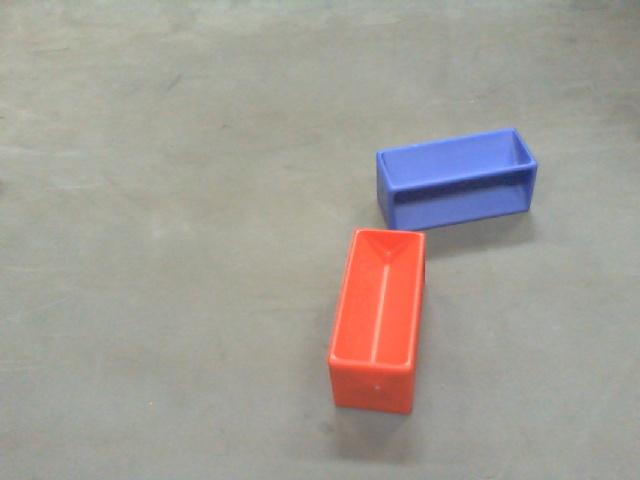BlueSample: (374, 129, 537, 231)
RedSample: (326, 228, 426, 418)
